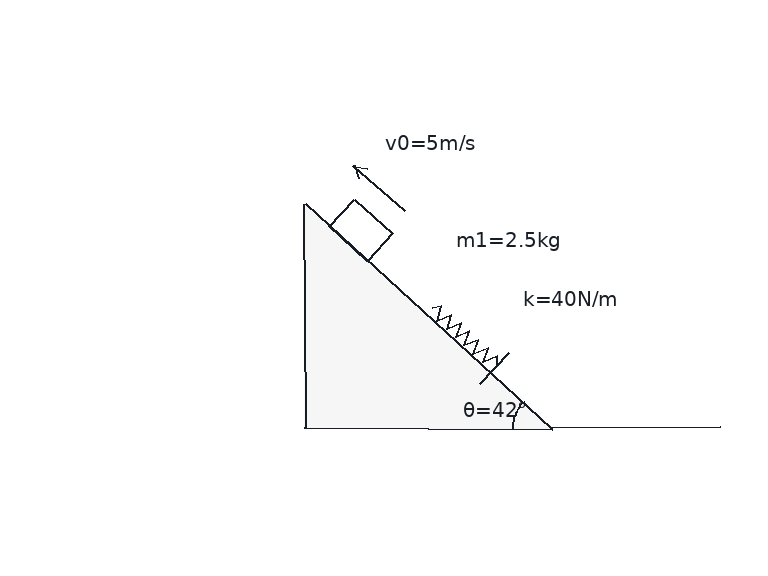block: (327, 197, 394, 263)
ramp: (303, 203, 555, 430)
spring: (430, 304, 499, 367)
